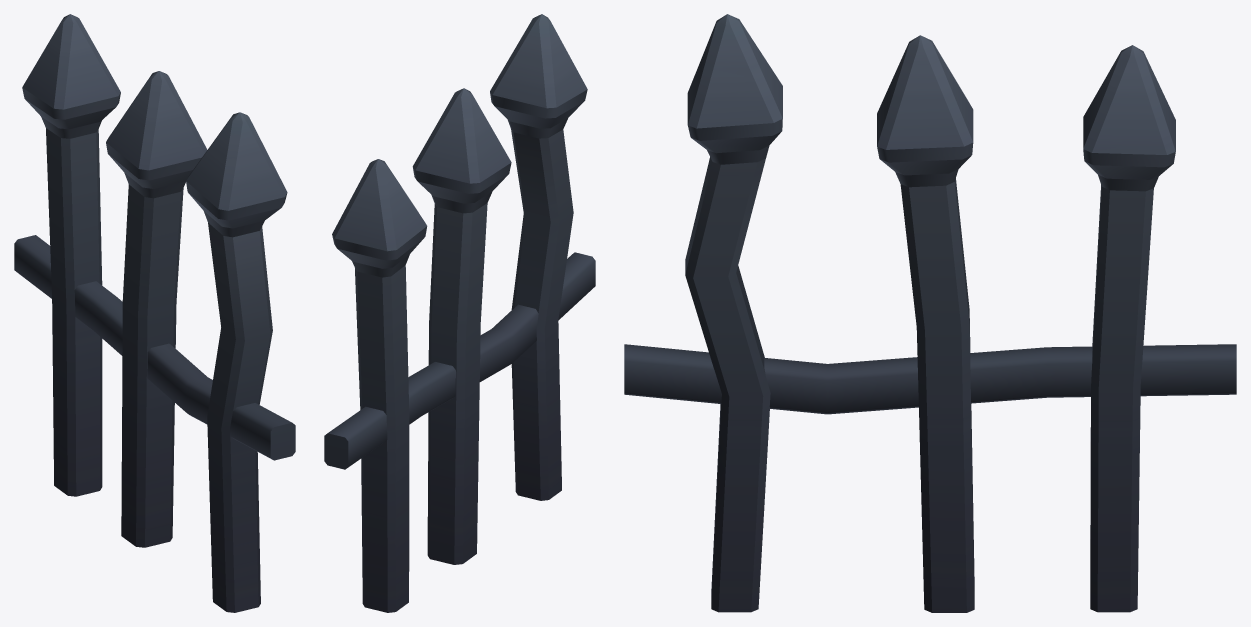
The model's file is Fence_3_2.obj.
3 views of the same model, side by side, from view 1: azimuth 30°, elevation 25°; view 2: azimuth 150°, elevation 25°; view 3: azimuth 270°, elevation 25° (orthographic). The views are drawn at different scales.
Parts seen in each view (by area): view 1: Fence_3_2; view 2: Fence_3_2; view 3: Fence_3_2.
Boxes of the visible parts, x1,y1,x2,y2 form: Fence_3_2: (14,14,295,612); Fence_3_2: (324,14,595,612); Fence_3_2: (624,14,1236,612).
Size of the model in its own units: 0.1533 by 1.03 by 0.9745.
